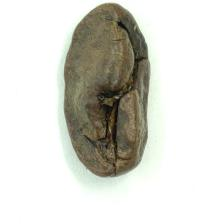NG: (77, 24, 142, 167)
